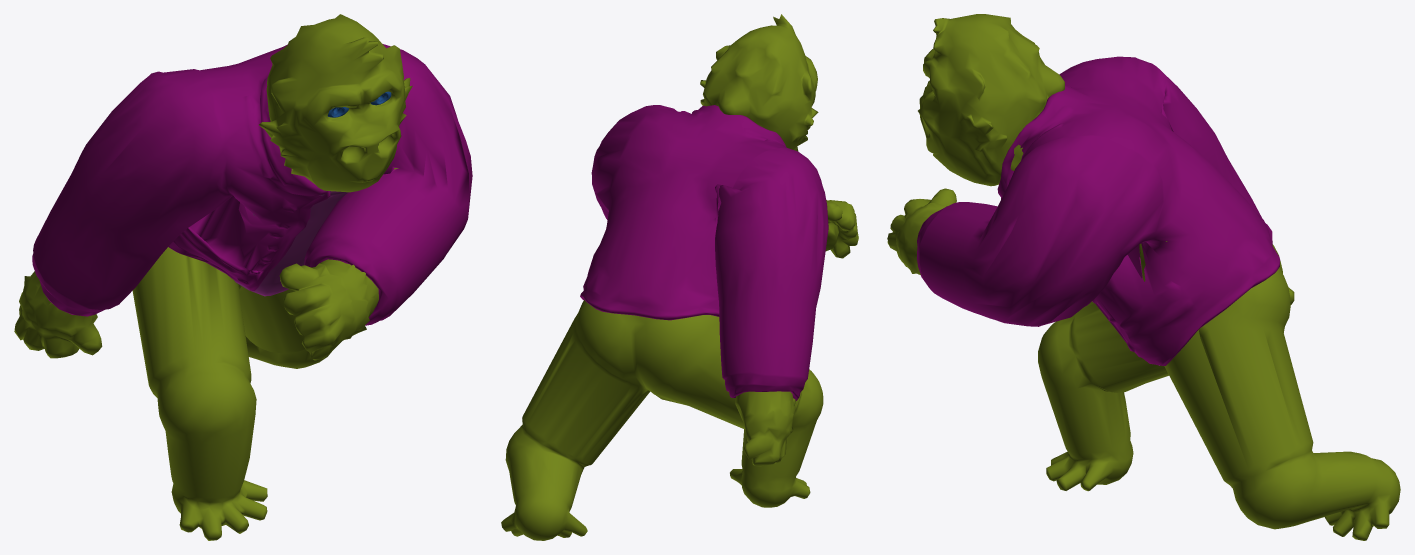
Rendered from 007kong.obj.
3 views of the same model, side by side, from view 1: azimuth 30°, elevation 25°; view 2: azimuth 150°, elevation 25°; view 3: azimuth 270°, elevation 25° (orthographic). The views are drawn at different scales.
Visible parts, largest first — view 1: Jacket, Body, Shirt; view 2: Jacket, Body; view 3: Jacket, Body.
Part boxes in pixels (box(x1,y1,x2,y2)): Jacket: box(32, 44, 472, 325); Body: box(14, 14, 412, 540); Shirt: box(234, 191, 348, 296); Jacket: box(580, 105, 828, 400); Body: box(501, 14, 858, 540); Jacket: box(917, 56, 1280, 365); Body: box(887, 14, 1400, 540).
Size of the model in its own units: 4.94 by 7.55 by 7.08.
